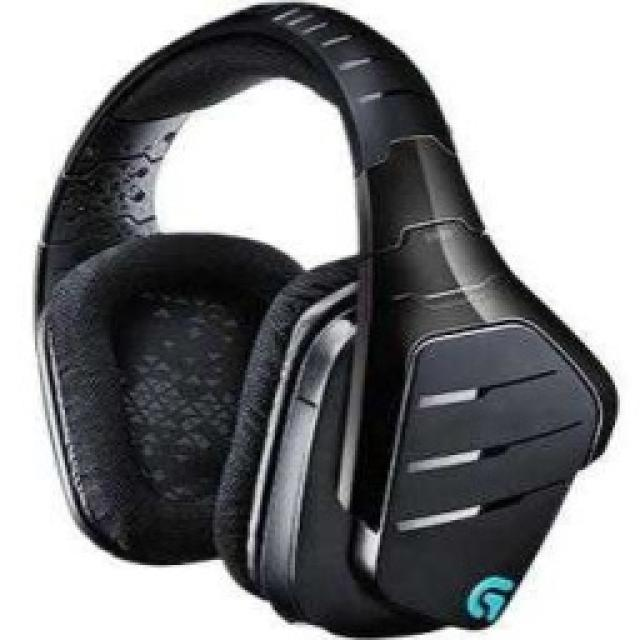headphones: (30, 0, 620, 638)
